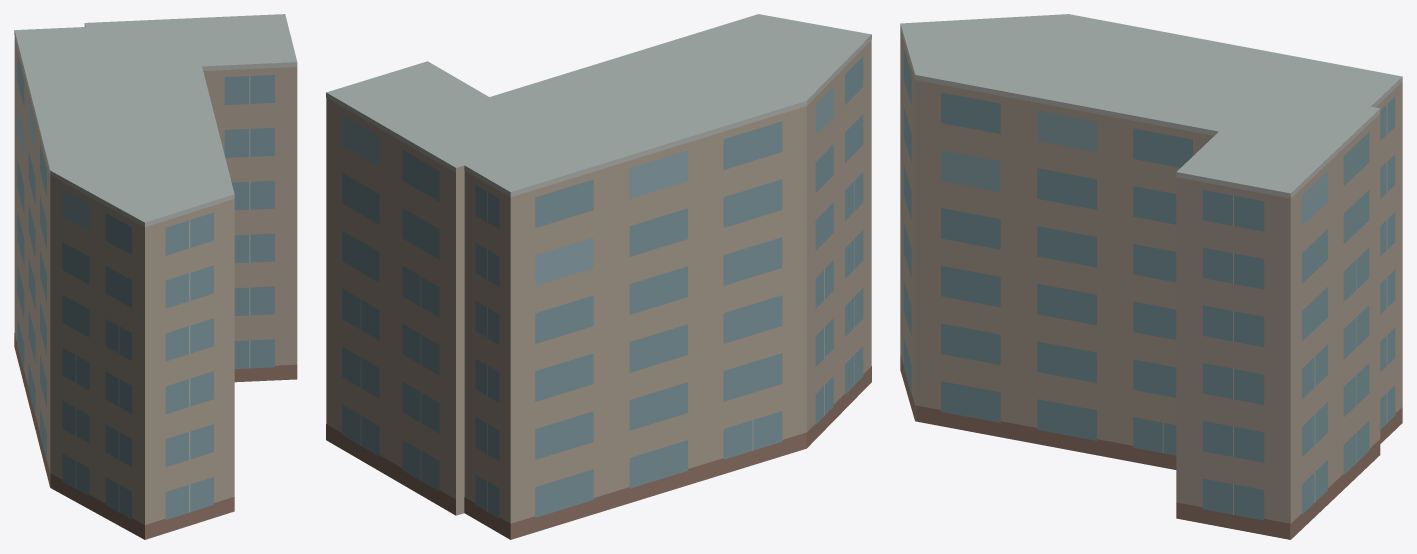
The model's file is survey-upis-32525944.glb.
3 renders of one model, left to right at view 1: azimuth 30°, elevation 25°; view 2: azimuth 150°, elevation 25°; view 3: azimuth 270°, elevation 25°, orthographic. The views are drawn at different scales.
Parts seen in each view (by area): view 1: survey-upis-32525944.tmp; view 2: survey-upis-32525944.tmp; view 3: survey-upis-32525944.tmp.
Boxes of the visible parts, bbox=[...] form: survey-upis-32525944.tmp: bbox=[14, 14, 297, 539]; survey-upis-32525944.tmp: bbox=[326, 14, 871, 539]; survey-upis-32525944.tmp: bbox=[900, 14, 1402, 539].
Bounding box in the file's own units: 18.22 × 16.4 × 21.56.
